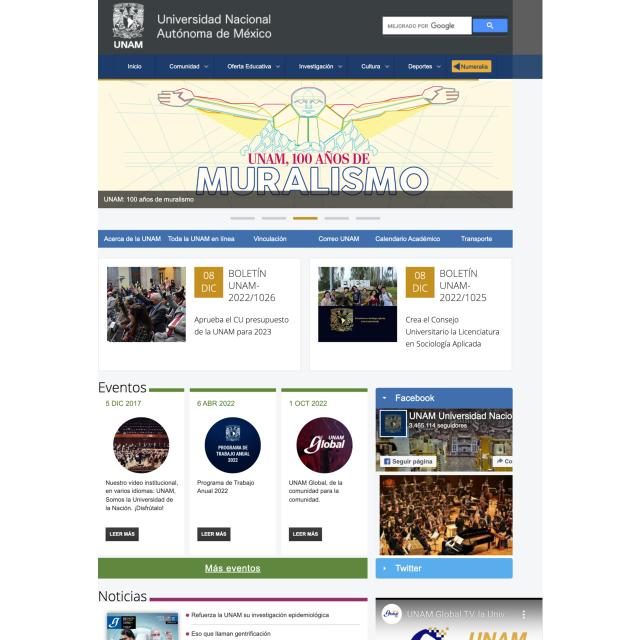CheckBox: (452, 60, 492, 73), (473, 18, 508, 32)
CheckedTextView: (382, 16, 472, 35)
Spinner: (98, 258, 302, 370), (309, 257, 511, 370)
alert: (227, 62, 282, 70), (299, 62, 344, 70), (168, 62, 210, 70), (361, 62, 392, 70), (407, 63, 441, 70)
bag: (98, 0, 512, 79)
breadcrumbs: (98, 588, 147, 604), (98, 381, 148, 394)
card: (98, 78, 513, 208)
date picker: (110, 2, 276, 51)
decoration: (98, 54, 542, 78), (98, 230, 512, 247)
dropdown: (228, 215, 382, 221)
footer: (386, 20, 457, 32)
